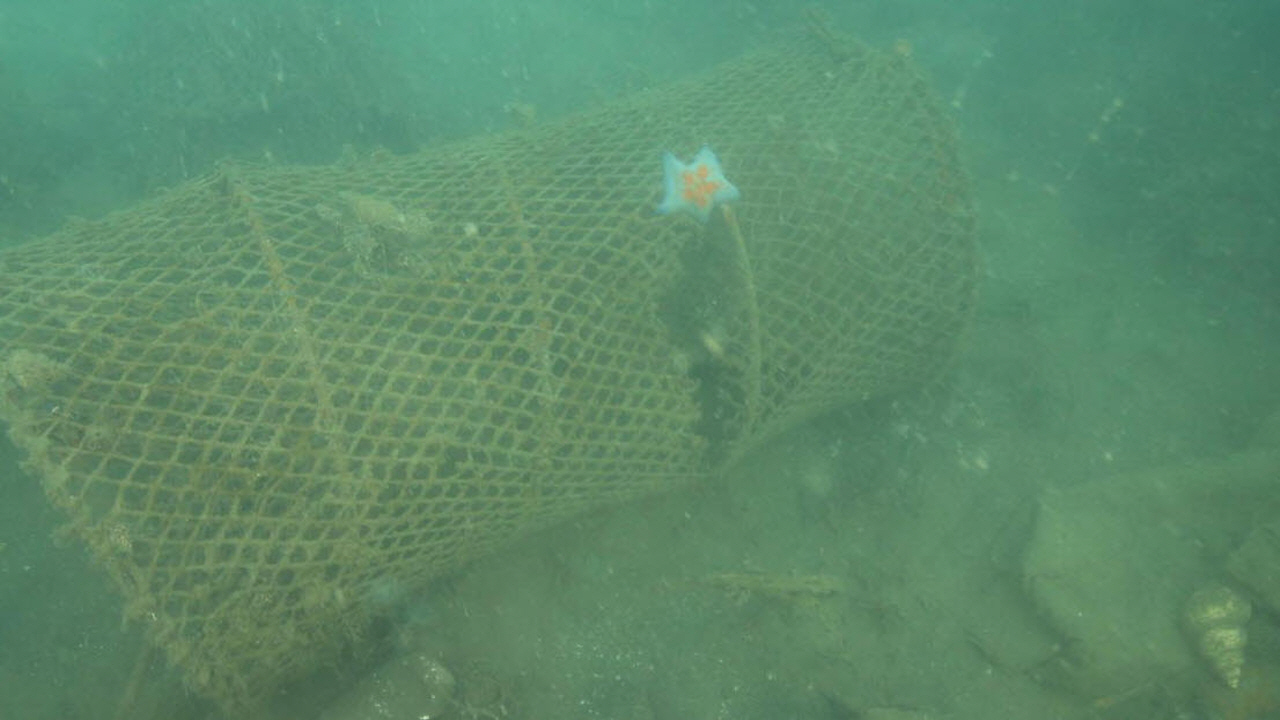spring fish trap: (0, 30, 979, 720)
